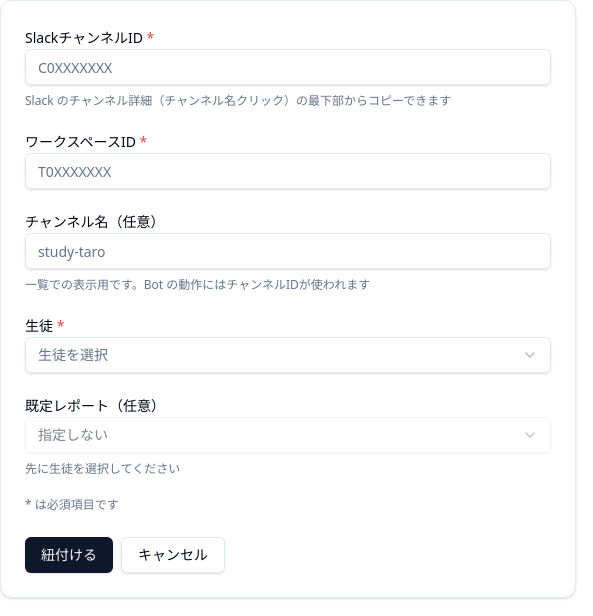
BindingForm（H-11: 既定レポート） › 生徒を選ぶと、その生徒のレポートだけが候補になる
Click the dropdown labelled "生徒を選択" at (73, 354), box [25, 337, 551, 373]
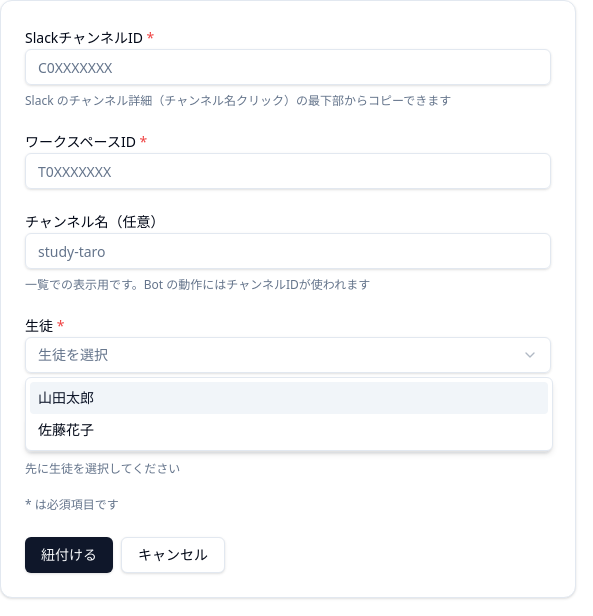
Click the option "山田太郎" at (66, 398), box [30, 382, 548, 414]
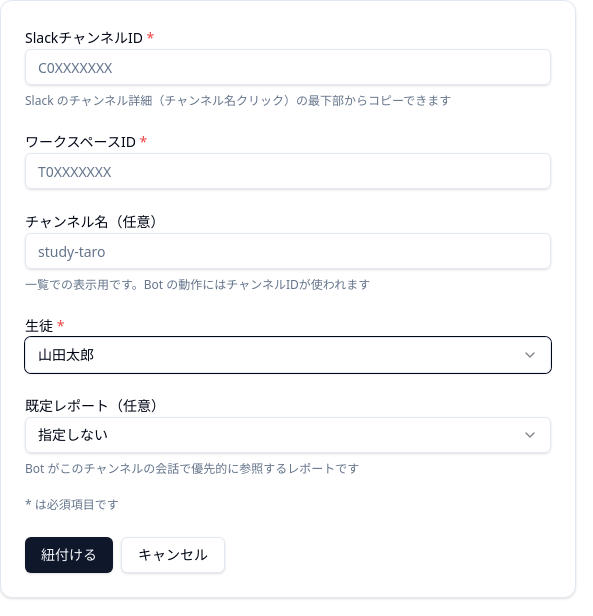
Result: the dropdown named "既定レポート（任意）" is enabled
Click the dropdown named "既定レポート（任意）" at (73, 434), box [25, 417, 551, 453]
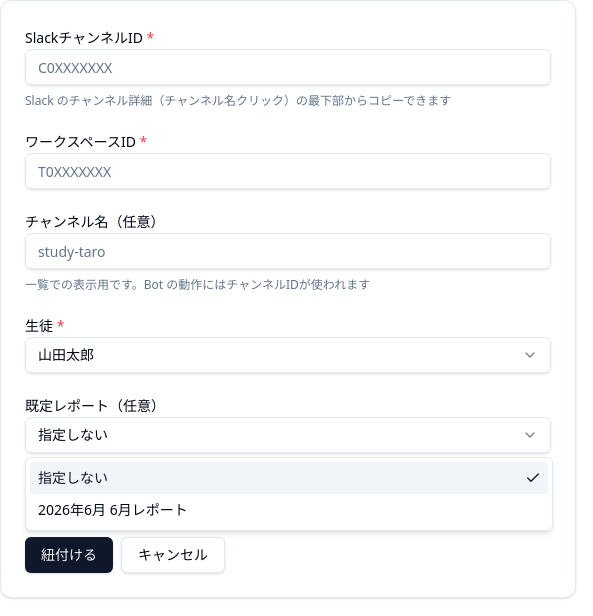
Result: the option "2026年6月 6月レポート" is shown at [38, 500, 188, 519]
